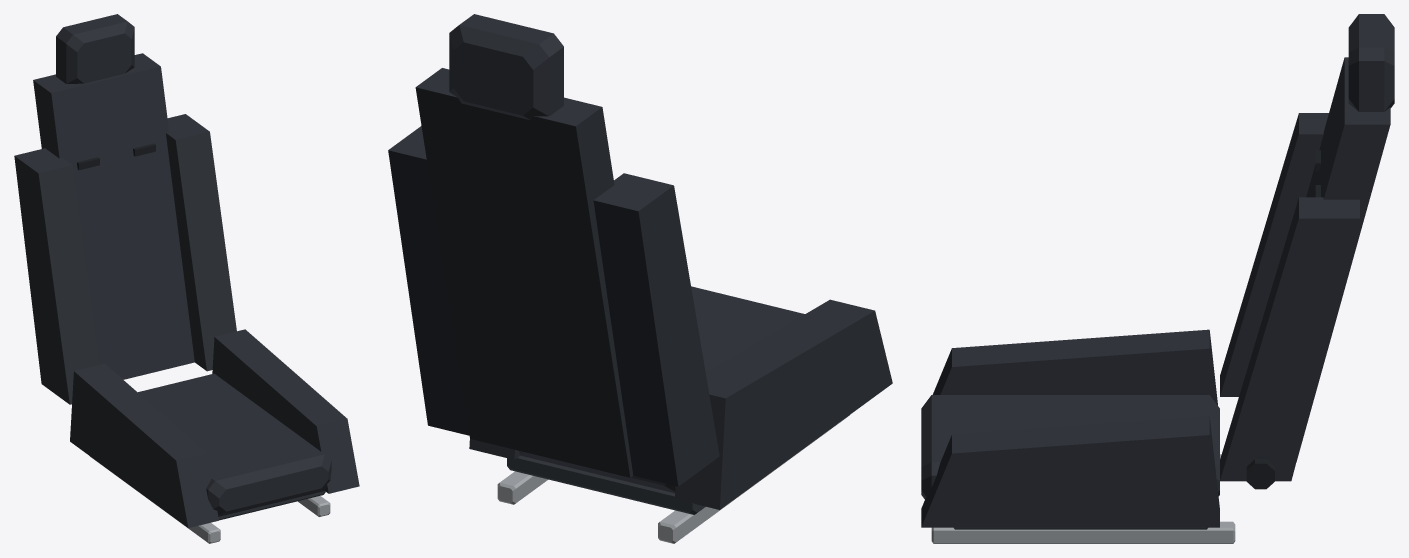
Rendered from vortex_r.glb.
3 views of the same model, side by side, from view 1: azimuth 30°, elevation 25°; view 2: azimuth 150°, elevation 25°; view 3: azimuth 270°, elevation 25° (orthographic). The views are drawn at different scales.
Visible parts, largest first — view 1: model; view 2: model; view 3: model.
Boxes of the visible parts, x1,y1,x2,y2 form: model: (14, 14, 359, 543); model: (388, 14, 892, 543); model: (921, 14, 1394, 543).
Bounding box in the file's own units: 0.5088 × 1.03 × 0.9273.
3 materials, 1 textured.
